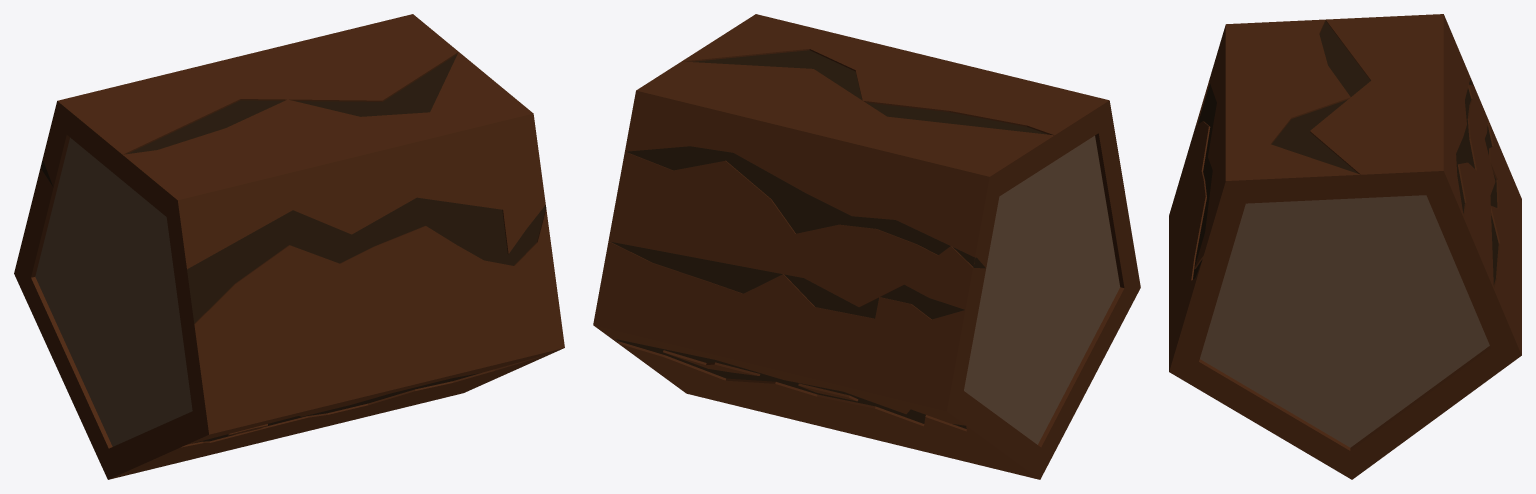
File: Log.gltf
3 renders of one model, left to right at view 1: azimuth 30°, elevation 25°; view 2: azimuth 150°, elevation 25°; view 3: azimuth 270°, elevation 25°, orthographic. The views are drawn at different scales.
Visible parts, largest first — view 1: Cylinder; view 2: Cylinder; view 3: Cylinder.
Part boxes in pixels (x1,y1,x2,y2): Cylinder: (14,14,564,479); Cylinder: (593,14,1140,479); Cylinder: (1169,14,1521,479).
Bounding box in the file's own units: 2 × 1.84 × 1.9.
